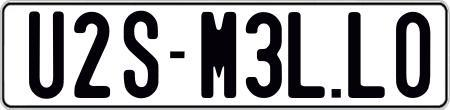0: (393, 10, 427, 102)
2: (74, 11, 111, 98)
3: (245, 9, 284, 100)
L: (285, 10, 328, 101), (348, 11, 385, 103)
M: (201, 10, 241, 97)
S: (122, 11, 159, 104)
U: (27, 11, 63, 101)
